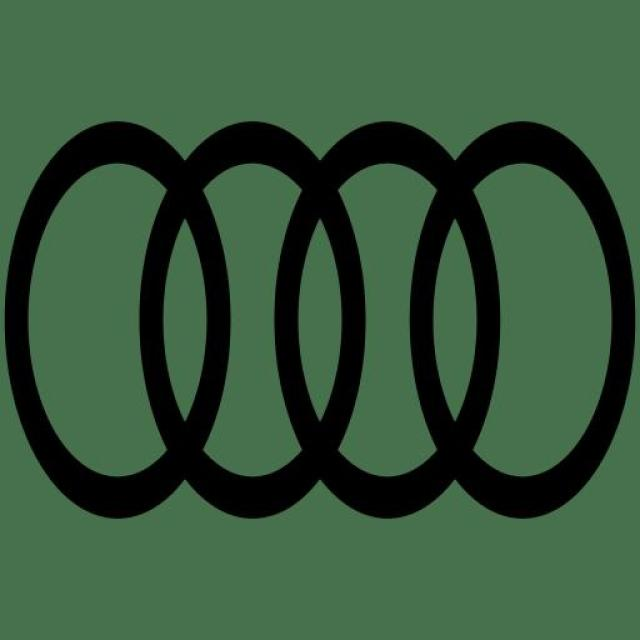Audi: (0, 79, 640, 557)
